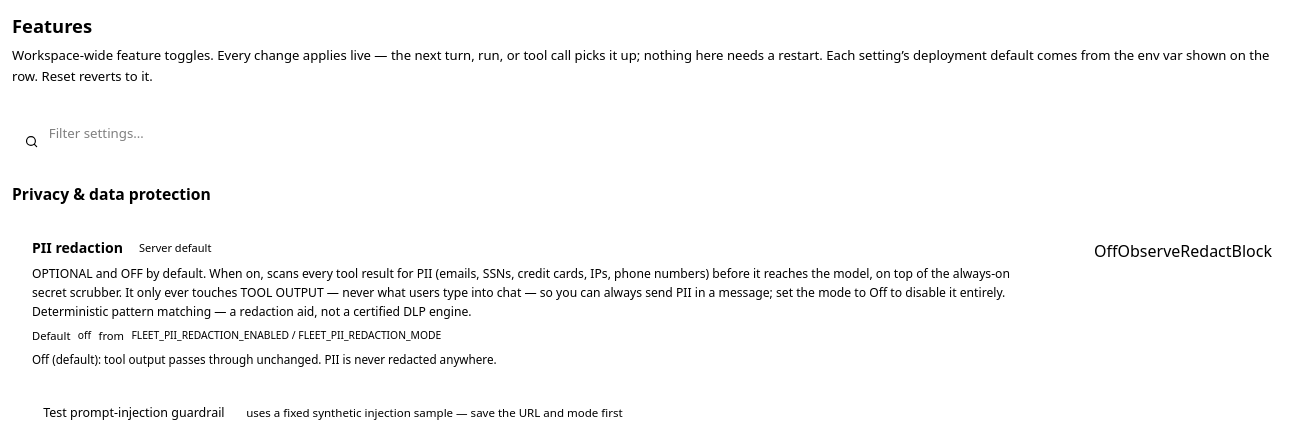
FeaturesAdminPage › picking an enum option PUTs it and shows the option help
This screenshot has width=1289, height=437.
Click the button "Redact".
click(1206, 251)  # box x1=1180 y1=239 x2=1232 y2=263
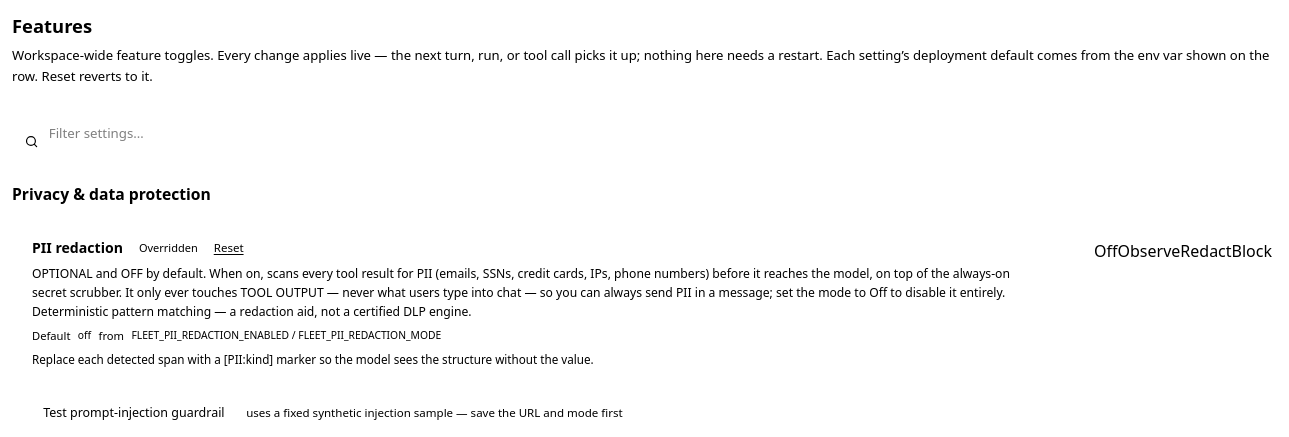
Expected: the text "[PII:kind] marker" is shown, x1=32 y1=352 x2=594 y2=367
